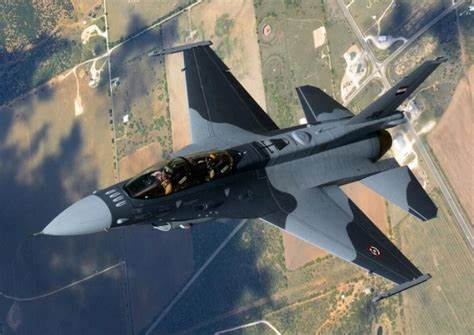Aeronef_militaire: (22, 31, 458, 305)
